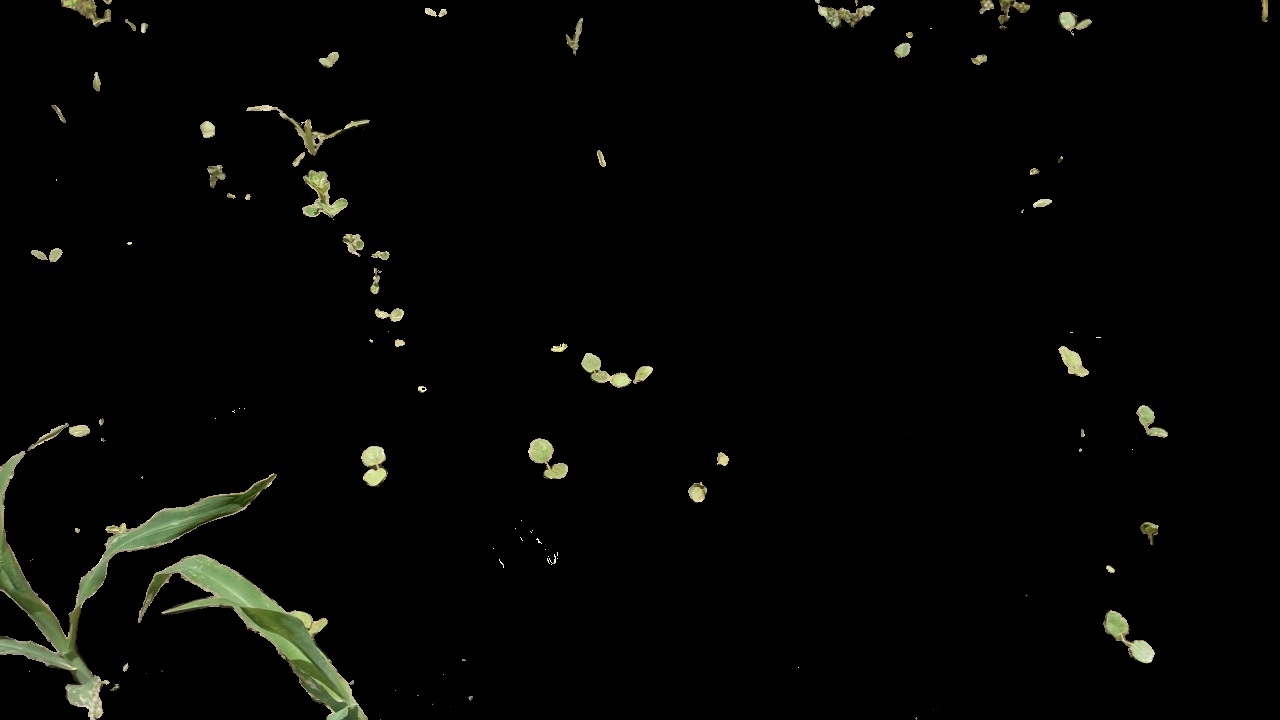crop: (2, 413, 360, 720)
weed: (240, 96, 373, 166), (1100, 603, 1168, 672), (292, 170, 363, 222), (580, 349, 656, 391), (348, 442, 406, 492), (525, 434, 583, 483), (1051, 327, 1095, 384), (1130, 398, 1179, 446), (819, 1, 873, 26), (29, 242, 68, 274), (367, 307, 415, 325), (1056, 11, 1093, 34), (338, 234, 367, 260)
